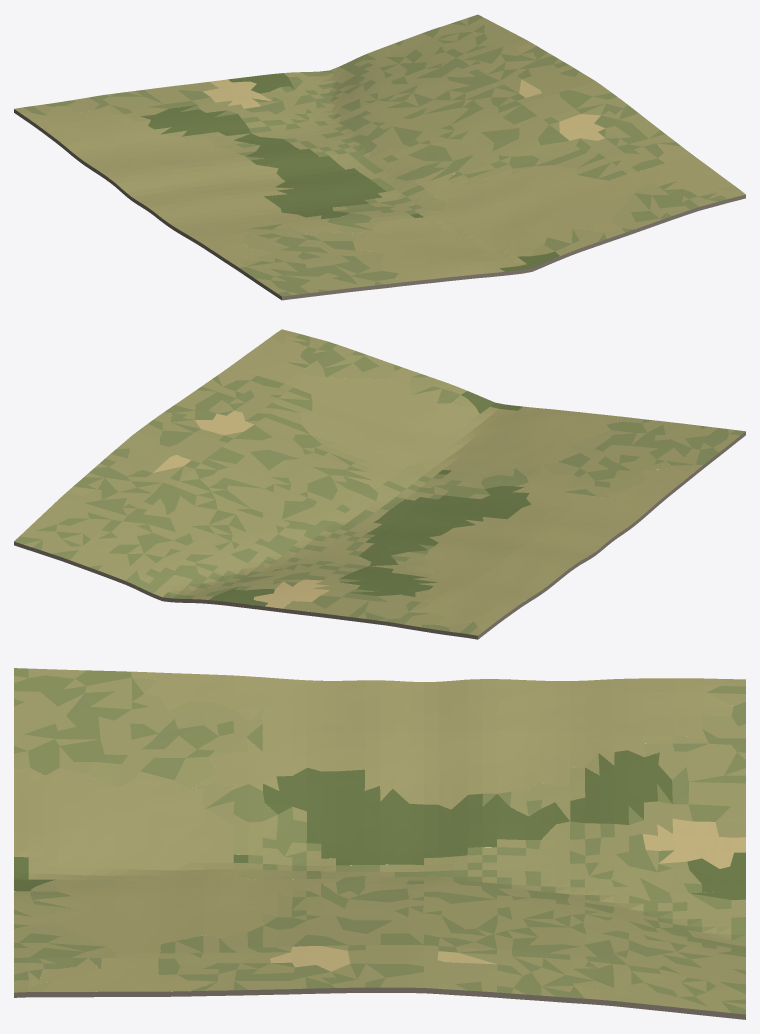
The model's file is parca_+2_+1-uzak.glb.
The picture shows the model from 3 angles, top to bottom: view 1: azimuth 30°, elevation 25°; view 2: azimuth 150°, elevation 25°; view 3: azimuth 270°, elevation 25°; orthographic projection. The views are drawn at different scales.
Parts seen in each view (by area): view 1: parca_+2_+1_arazi_uzak; view 2: parca_+2_+1_arazi_uzak; view 3: parca_+2_+1_arazi_uzak.
Boxes of the visible parts, left/top/right/bottom form: parca_+2_+1_arazi_uzak: left=14, top=14, right=745, bottom=300; parca_+2_+1_arazi_uzak: left=14, top=329, right=745, bottom=639; parca_+2_+1_arazi_uzak: left=14, top=668, right=745, bottom=1019.
Bounding box in the file's own units: 1000 × 105 × 1000.
